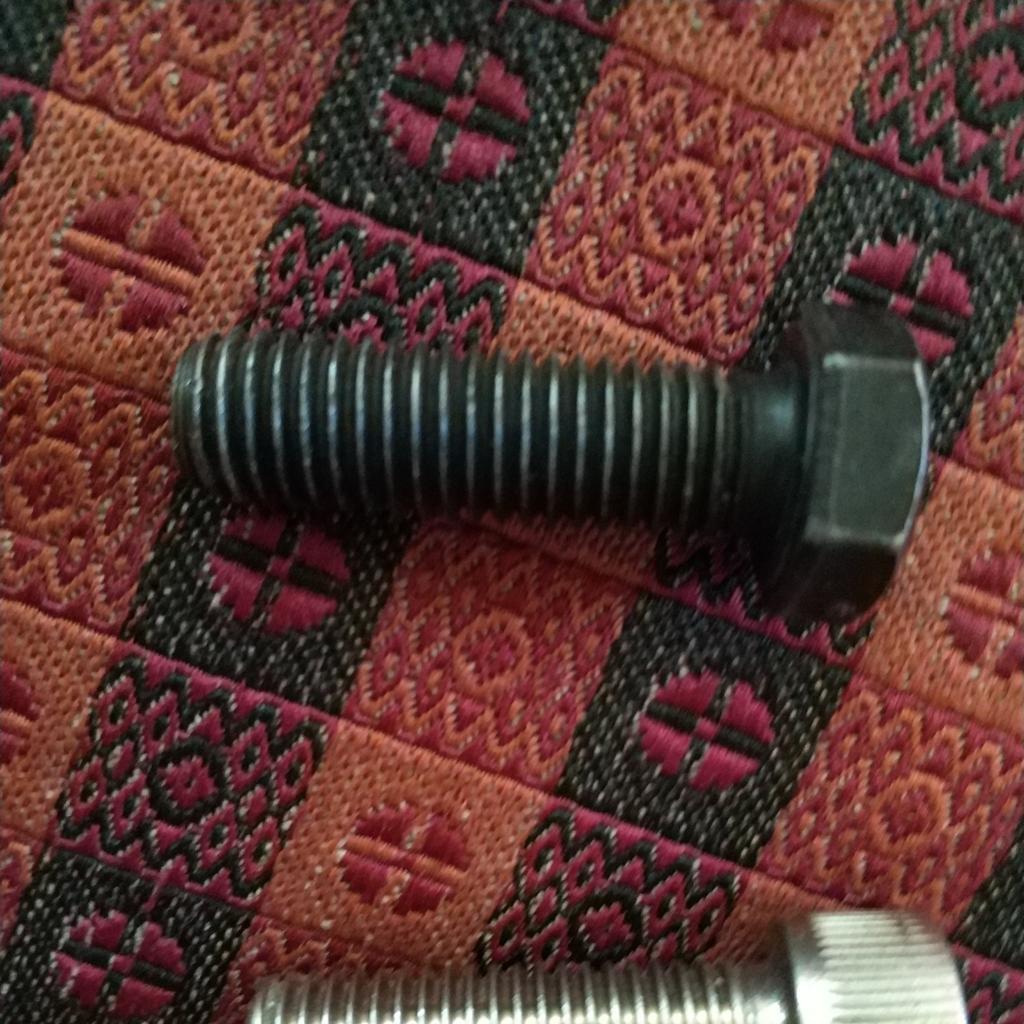screwtype1silver: (241, 895, 972, 1024)
screwtype2black: (163, 296, 933, 604)
